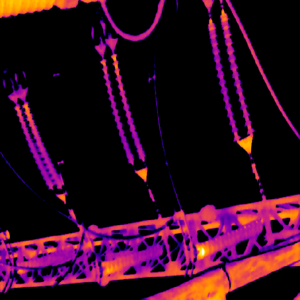insulator: (219, 9, 254, 134), (207, 16, 240, 140), (109, 52, 144, 160), (100, 58, 134, 165), (22, 100, 62, 188), (14, 102, 52, 190), (195, 218, 262, 260), (101, 242, 163, 277)
